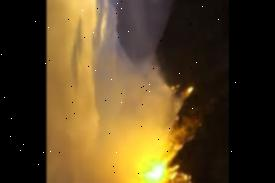fire: (135, 147, 221, 183)
